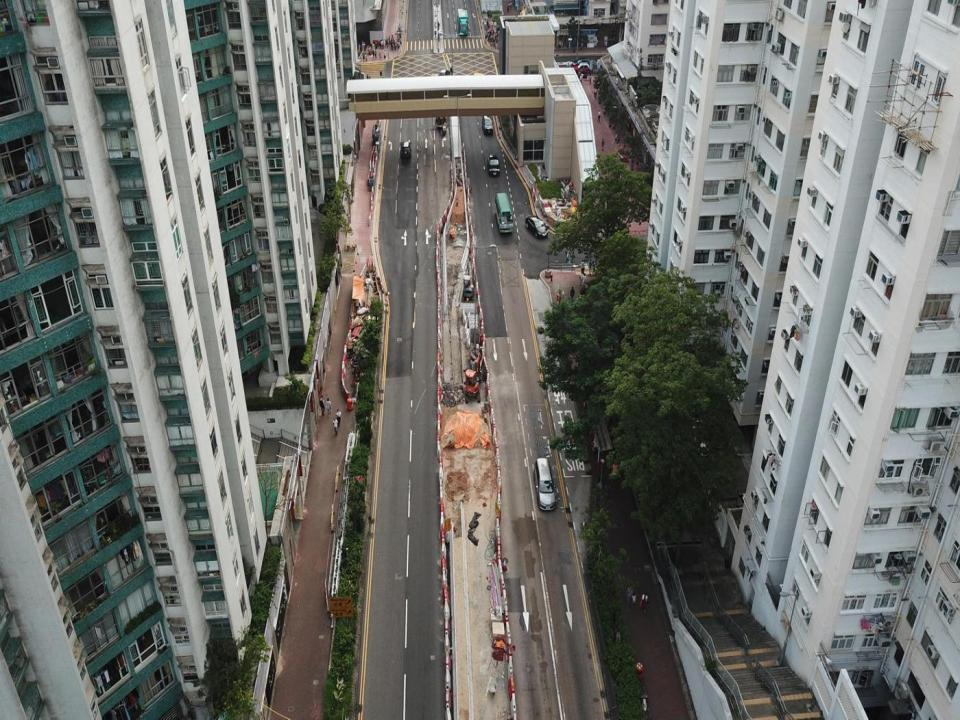bus: (495, 192, 514, 233)
car: (524, 214, 548, 238), (569, 60, 592, 76), (399, 140, 412, 164), (488, 152, 500, 177), (572, 58, 593, 72)
truck: (457, 6, 469, 36)
van: (532, 457, 556, 512), (481, 112, 494, 136)
